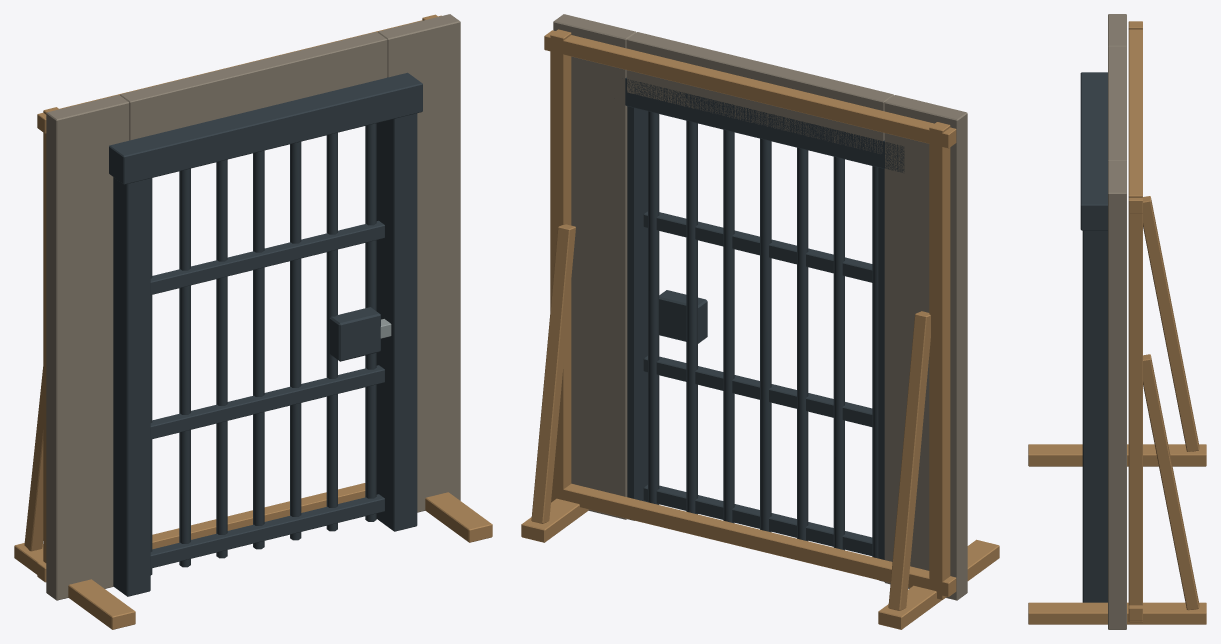
File: S003_barred_cell_gate_rebuilt.glb
3 renders of one model, left to right at view 1: azimuth 30°, elevation 25°; view 2: azimuth 150°, elevation 25°; view 3: azimuth 270°, elevation 25°, orthographic. The views are drawn at different scales.
Visible parts, largest first — view 1: Dark_painted_steel, Mortar_warm_gray, Scenic_framing_warm_bare_timber; view 2: Mortar_warm_gray, Dark_painted_steel, Scenic_framing_warm_bare_timber; view 3: Scenic_framing_warm_bare_timber, Dark_painted_steel, Mortar_warm_gray.
Boxes of the visible parts, bbox=[...] form: Dark_painted_steel: bbox=[109, 72, 422, 596]; Mortar_warm_gray: bbox=[46, 14, 460, 600]; Scenic_framing_warm_bare_timber: bbox=[14, 14, 492, 629]; Mortar_warm_gray: bbox=[553, 14, 967, 600]; Dark_painted_steel: bbox=[625, 77, 904, 581]; Scenic_framing_warm_bare_timber: bbox=[521, 29, 999, 629]; Scenic_framing_warm_bare_timber: bbox=[1028, 21, 1206, 624]; Dark_painted_steel: bbox=[1080, 72, 1107, 602]; Mortar_warm_gray: bbox=[1108, 14, 1126, 629].
Bounding box in the file's own units: 2.2 × 2.5 × 0.925.
